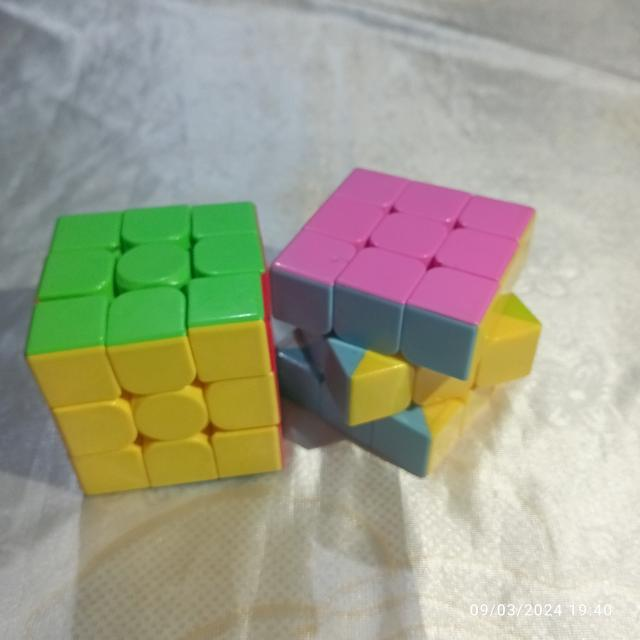Rub: (252, 160, 547, 482), (19, 196, 290, 497)
